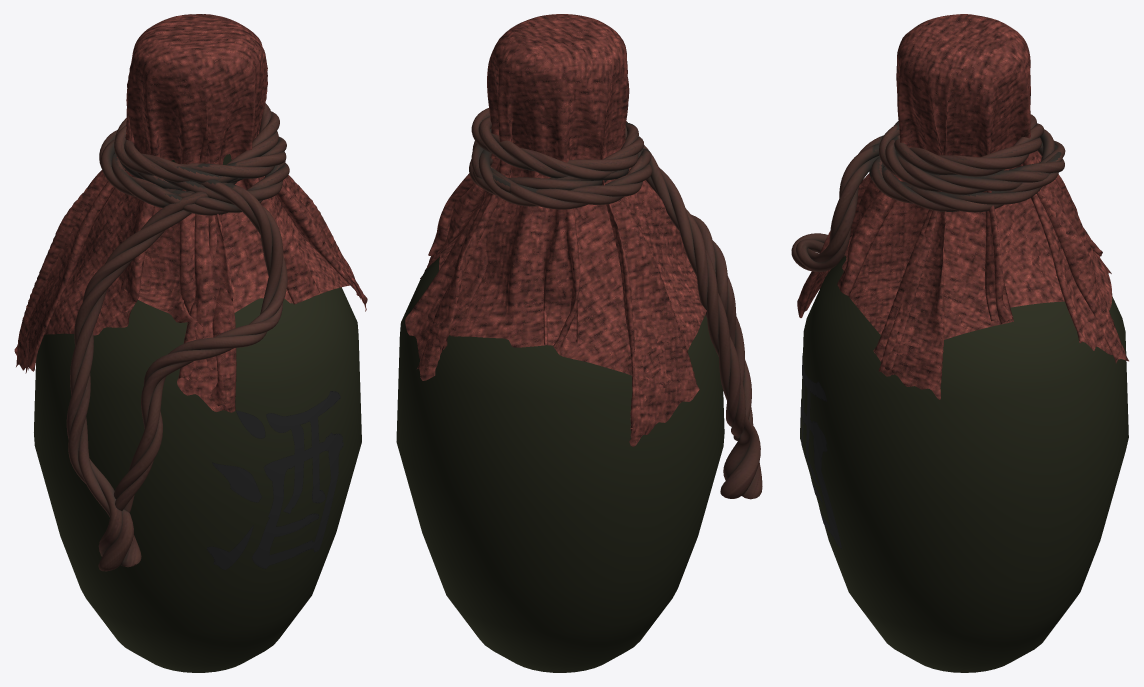
The model's file is Sake_Baked.fbx.
3 views of the same model, side by side, from view 1: azimuth 30°, elevation 25°; view 2: azimuth 150°, elevation 25°; view 3: azimuth 270°, elevation 25° (orthographic).
Parts seen in each view (by area): view 1: Sake 1, Sake 3, Sake 5, Sake 4, Sake 2; view 2: Sake 1, Sake 3, Sake 5, Sake 4; view 3: Sake 1, Sake 3, Sake 4, Sake 5, Sake 2.
Part boxes in pixels (<box>): Sake 1: <box>34,154,361,672</box>; Sake 3: <box>14,14,367,412</box>; Sake 5: <box>66,103,289,571</box>; Sake 4: <box>15,14,367,412</box>; Sake 2: <box>206,391,343,570</box>; Sake 1: <box>396,257,724,672</box>; Sake 3: <box>405,14,706,446</box>; Sake 5: <box>469,108,762,499</box>; Sake 4: <box>406,14,705,445</box>; Sake 1: <box>800,169,1128,672</box>; Sake 3: <box>797,14,1128,399</box>; Sake 4: <box>799,14,1128,397</box>; Sake 5: <box>791,114,1065,272</box>; Sake 2: <box>800,353,841,548</box>.
Bounding box in the file's own units: 0.3202 × 0.6104 × 0.3028.
Materials: 4 (3 with a texture image).
